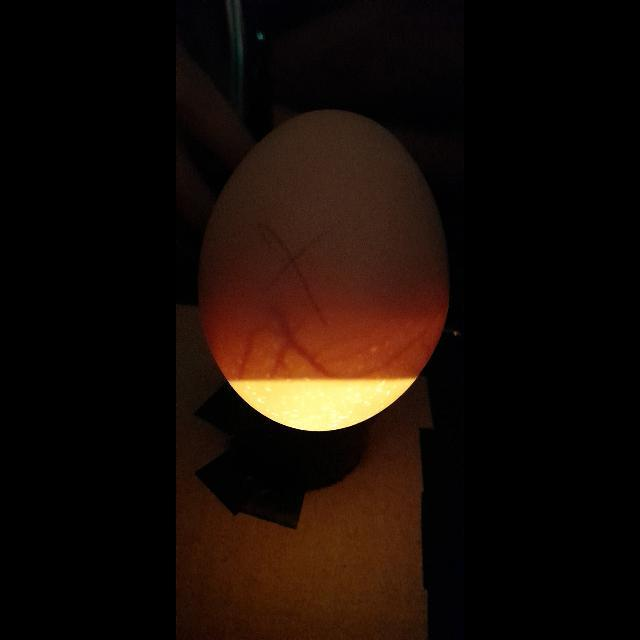Fertile: (213, 93, 443, 433)
